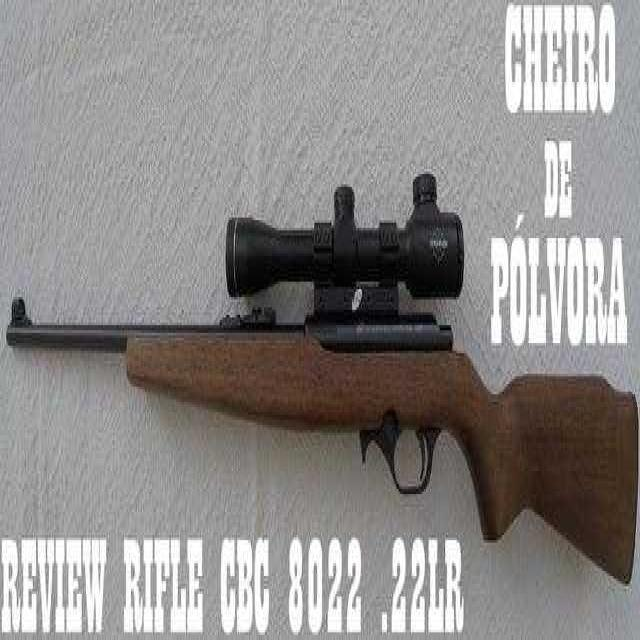heavyweapon: (1, 134, 634, 526)
